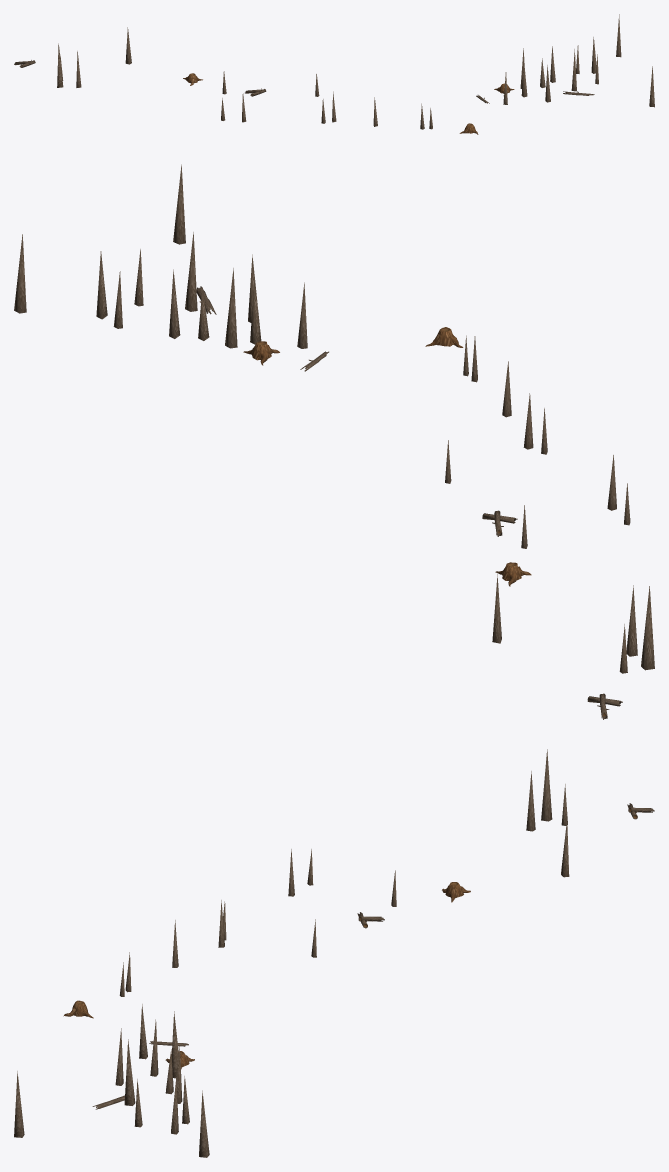
The model's file is wujian21_1.fbx.
3 views of the same model, one above another, from view 1: azimuth 30°, elevation 25°; view 2: azimuth 150°, elevation 25°; view 3: azimuth 270°, elevation 25° (orthographic). The views are drawn at different scales.
Parts seen in each view (by area): view 1: wujian21_1; view 2: wujian21_1; view 3: wujian21_1.
Boxes of the visible parts, x1,y1,x2,y2 form: wujian21_1: (14, 14, 654, 134); wujian21_1: (14, 164, 654, 719); wujian21_1: (14, 749, 654, 1157).
Bounding box in the file's own units: 7739 × 737 × 5962.
